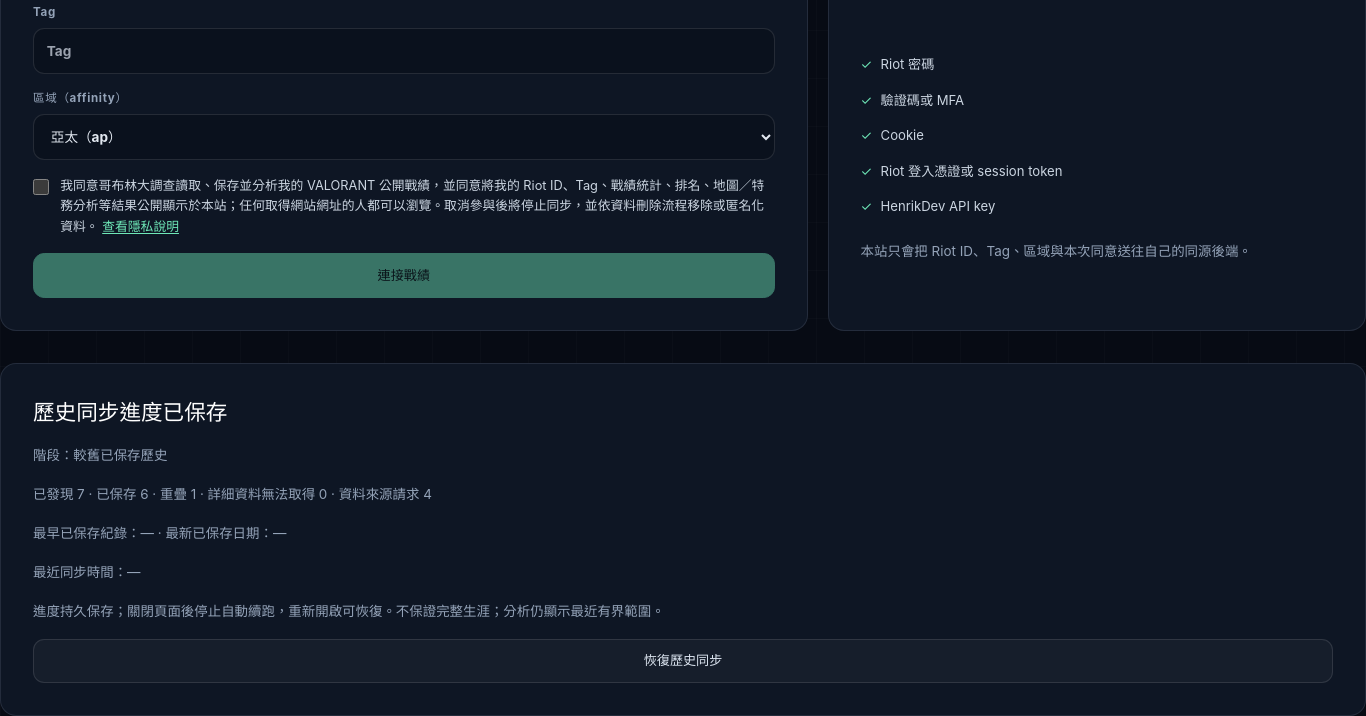
Test: deep sync browser orchestration › source exhaustion stops automatic continuation and does not display an active pause control
The image size is (1366, 716).
(page scrolled)
Click the button "恢復歷史同步".
click(683, 661)  # box [33,639,1333,683]
Wait 67000 ms
(page scrolled)
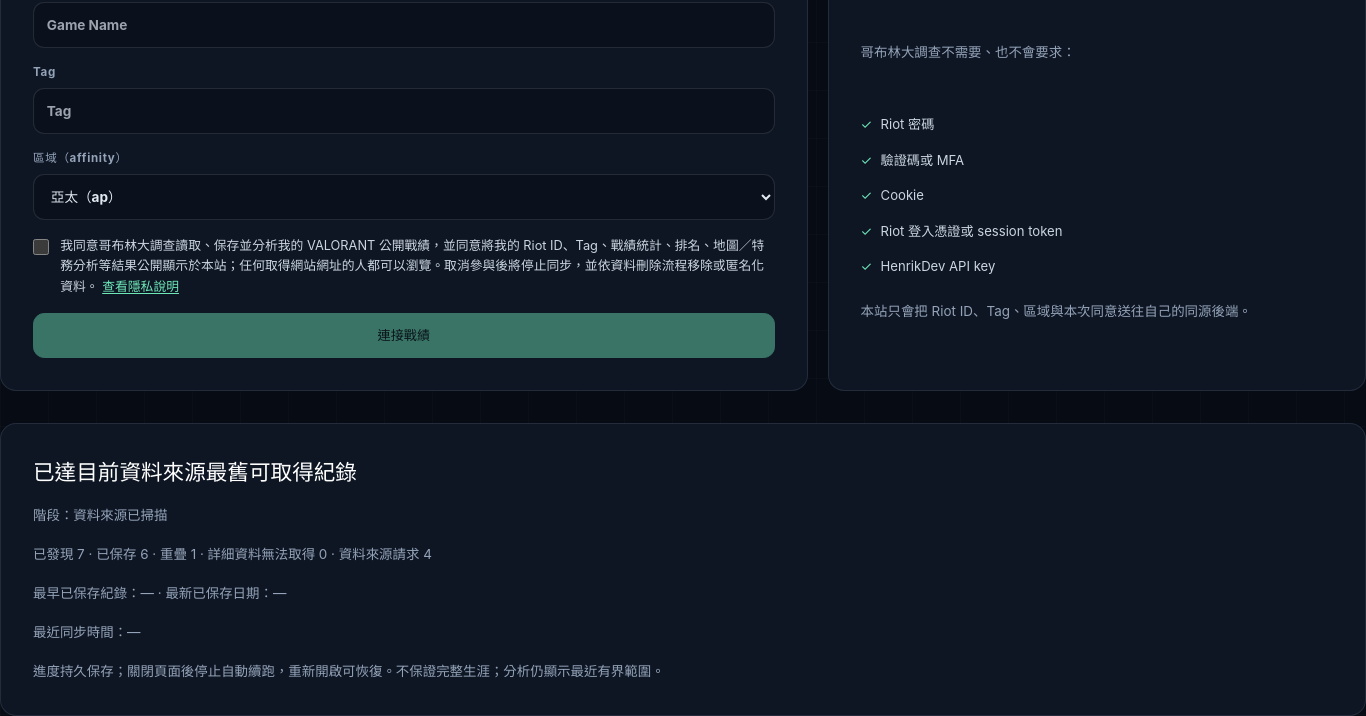
Now the text "已達目前資料來源最舊可取得紀錄" is shown, box [33,459,357,485]
